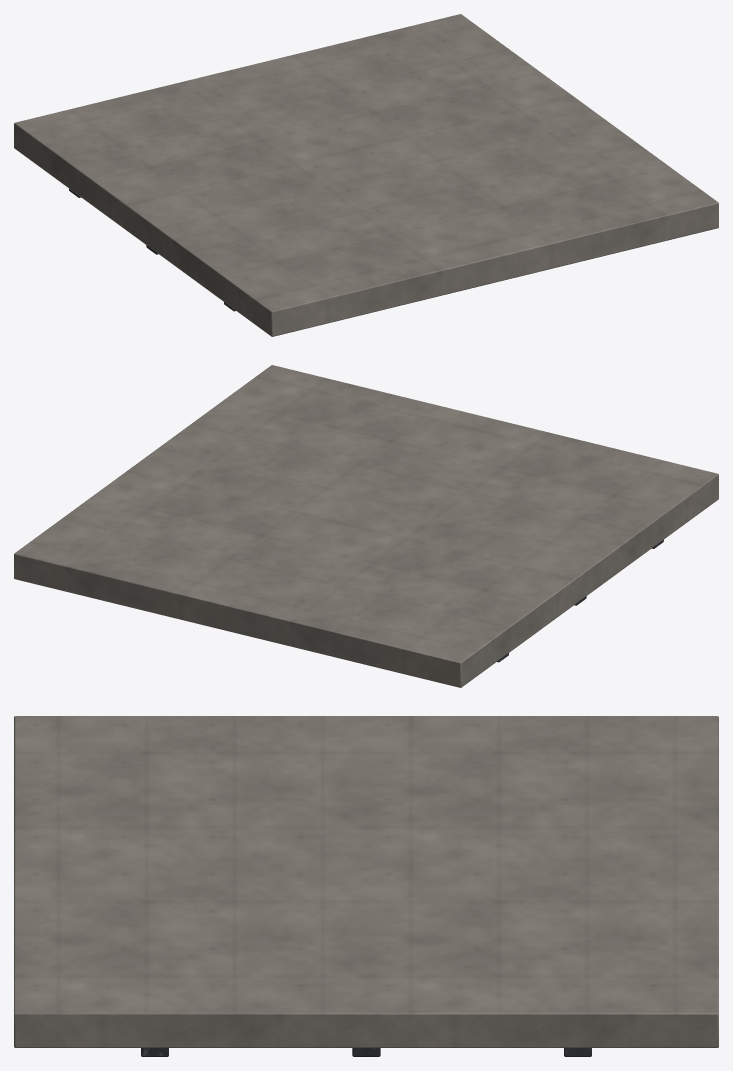
Rendered from BLD_FloorSlab_4x4.glb.
3 views of the same model, one above another, from view 1: azimuth 30°, elevation 25°; view 2: azimuth 150°, elevation 25°; view 3: azimuth 270°, elevation 25° (orthographic). The views are drawn at different scales.
Parts seen in each view (by area): view 1: BLD_FloorSlab_4x4_Mesh; view 2: BLD_FloorSlab_4x4_Mesh; view 3: BLD_FloorSlab_4x4_Mesh.
Boxes of the visible parts, bbox=[...] form: BLD_FloorSlab_4x4_Mesh: bbox=[14, 14, 718, 336]; BLD_FloorSlab_4x4_Mesh: bbox=[14, 365, 718, 687]; BLD_FloorSlab_4x4_Mesh: bbox=[14, 716, 718, 1056].
Bounding box in the file's own units: 4 × 0.31 × 4.
2 materials, 2 textured.
